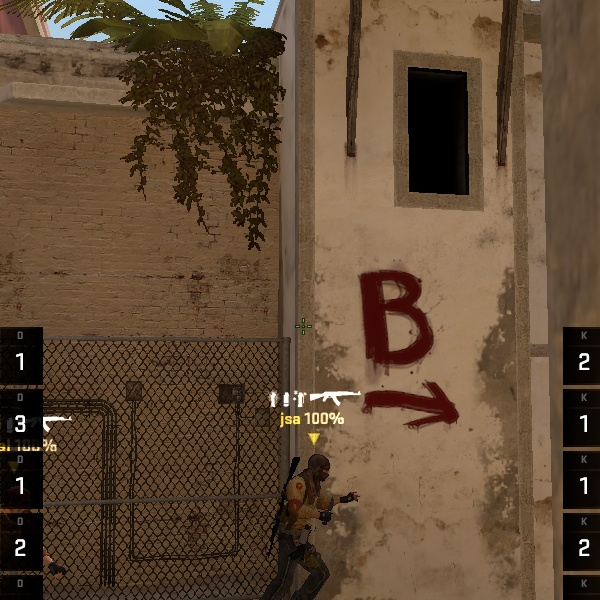t_body: (267, 446, 360, 600)
t_head: (302, 449, 339, 487)
